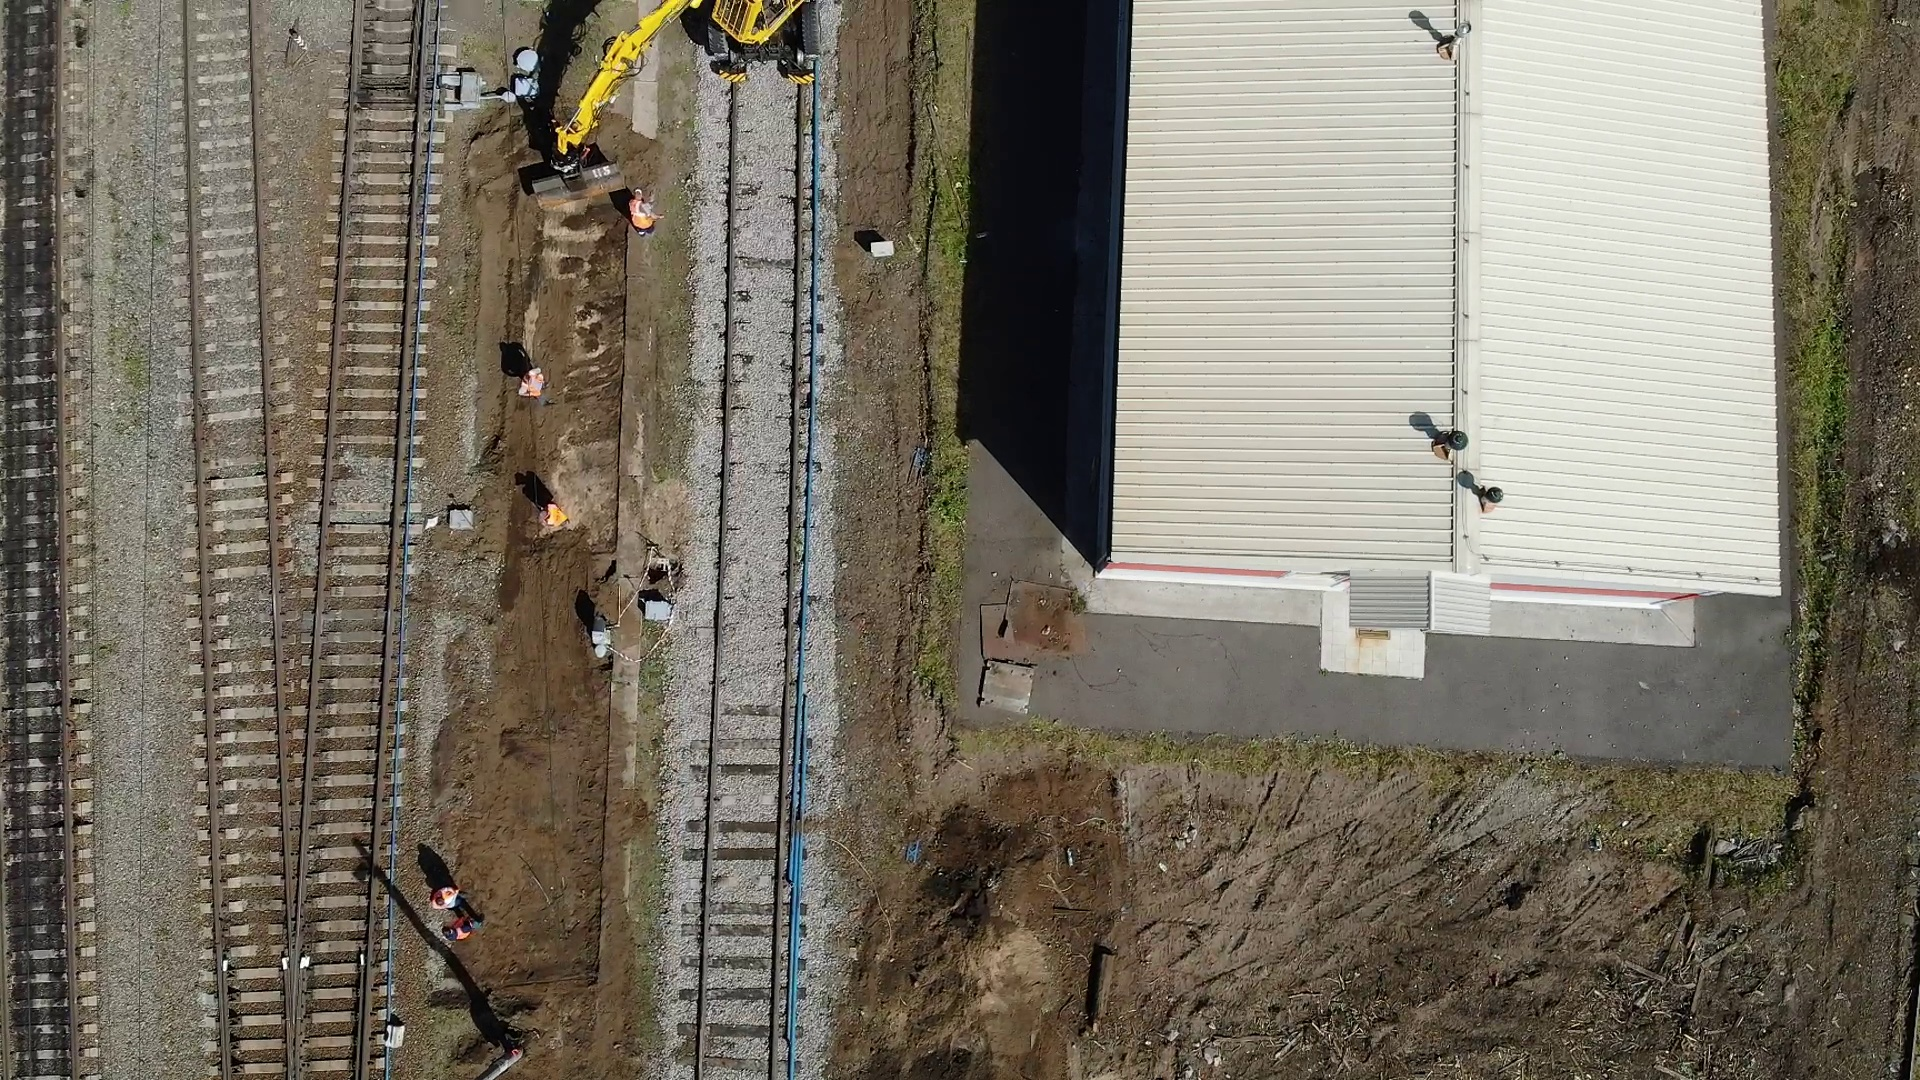kjtv: (696, 1, 826, 75)
